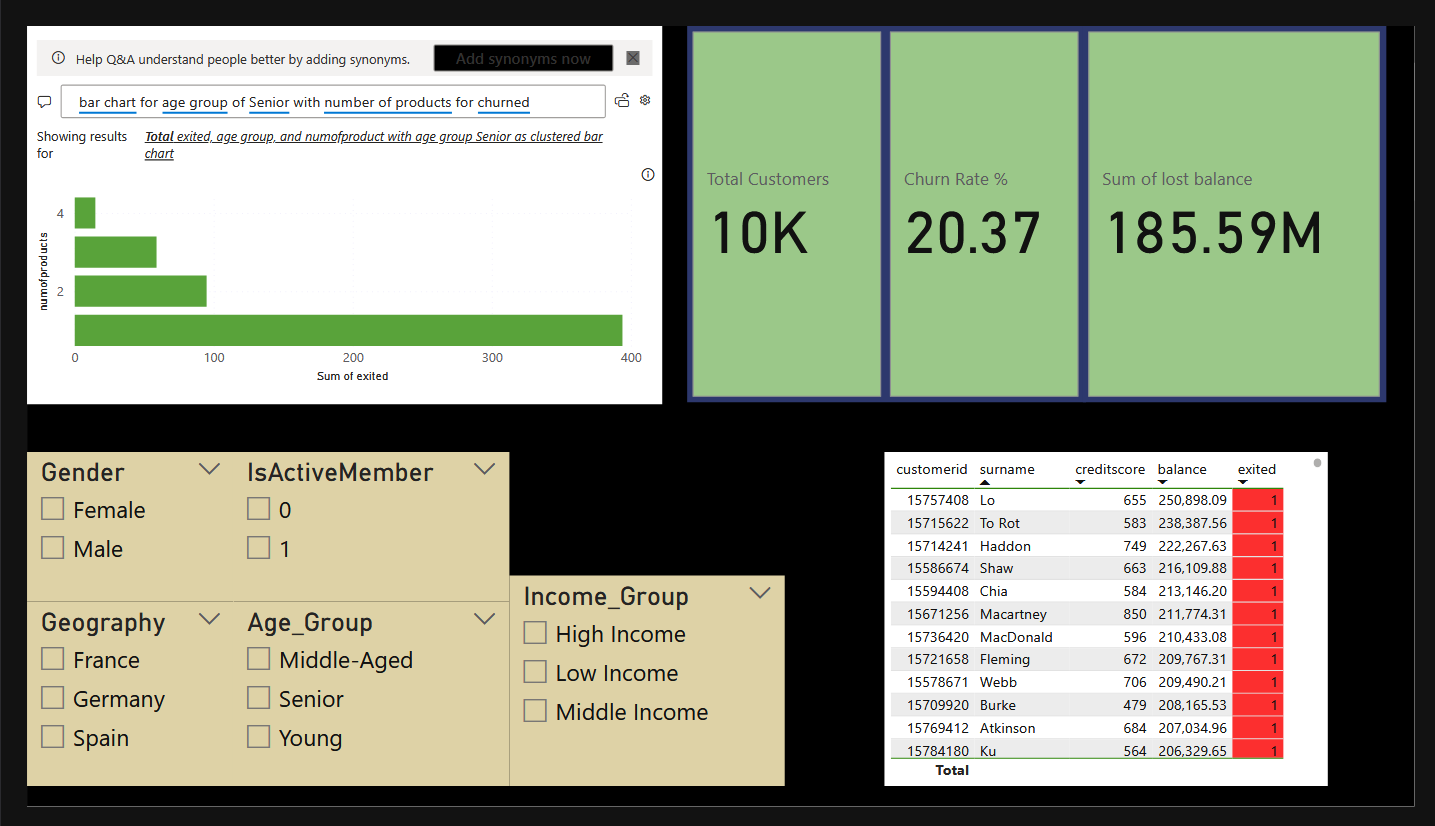

Layout of this report page (visuals, bound fields, positions):
{"tool":"powerbi","page":{"name":"Page 1","canvas":[1280,720],"ordinal":0},"visuals":[{"type":"tableEx","fields":{"Values":["churn_modelling_cleaned.customerid","churn_modelling_cleaned.surname","churn_modelling_cleaned.creditscore","churn_modelling_cleaned.balance","churn_modelling_cleaned.exited"]},"box":[790.7,393.3,409.3,307.3],"z":0},{"type":"cardVisual","fields":{"Data":["churn_modelling_cleaned.customerid","churn_modelling_cleaned.Churn Rate %"]},"box":[608.8,0,367.7,347.1],"z":1000},{"type":"cardVisual","fields":{"Data":["churn_modelling_cleaned.balance"]},"box":[974,0,279.9,347.3],"z":2000},{"type":"slicer","fields":{"Values":["churn_modelling_cleaned.gender"]},"box":[0,393.1,191,138.3],"z":3000},{"type":"slicer","fields":{"Values":["churn_modelling_cleaned.geography"]},"box":[0,531.4,191,169.6],"z":4000},{"type":"slicer","fields":{"Values":["churn_modelling_cleaned.isactivemember"]},"box":[189.8,393.1,255.1,138.3],"z":5000},{"type":"slicer","fields":{"Values":["churn_modelling_cleaned.age_group"]},"box":[189.8,531.4,255.1,169.6],"z":6000},{"type":"slicer","fields":{"Values":["churn_modelling_cleaned.income_group"]},"box":[444.9,507.1,253.7,193.9],"z":7000},{"type":"qnaVisual","box":[0,0,586.4,349.3],"z":8000}]}

Visuals, with their boxes in screenshot pixels (x1, y1, x2, y2), scaled from the page's 1280x720 canvas onto the 1435x826 screenshot:
tableEx - churn_modelling_cleaned.customerid x churn_modelling_cleaned.surname: 886 451 1345 804
cardVisual - churn_modelling_cleaned.customerid x churn_modelling_cleaned.Churn Rate %: 683 0 1095 398
cardVisual - churn_modelling_cleaned.balance: 1092 0 1406 398
slicer - churn_modelling_cleaned.gender: 0 451 214 610
slicer - churn_modelling_cleaned.geography: 0 610 214 804
slicer - churn_modelling_cleaned.isactivemember: 213 451 499 610
slicer - churn_modelling_cleaned.age_group: 213 610 499 804
slicer - churn_modelling_cleaned.income_group: 499 582 783 804
qnaVisual: 0 0 657 401
